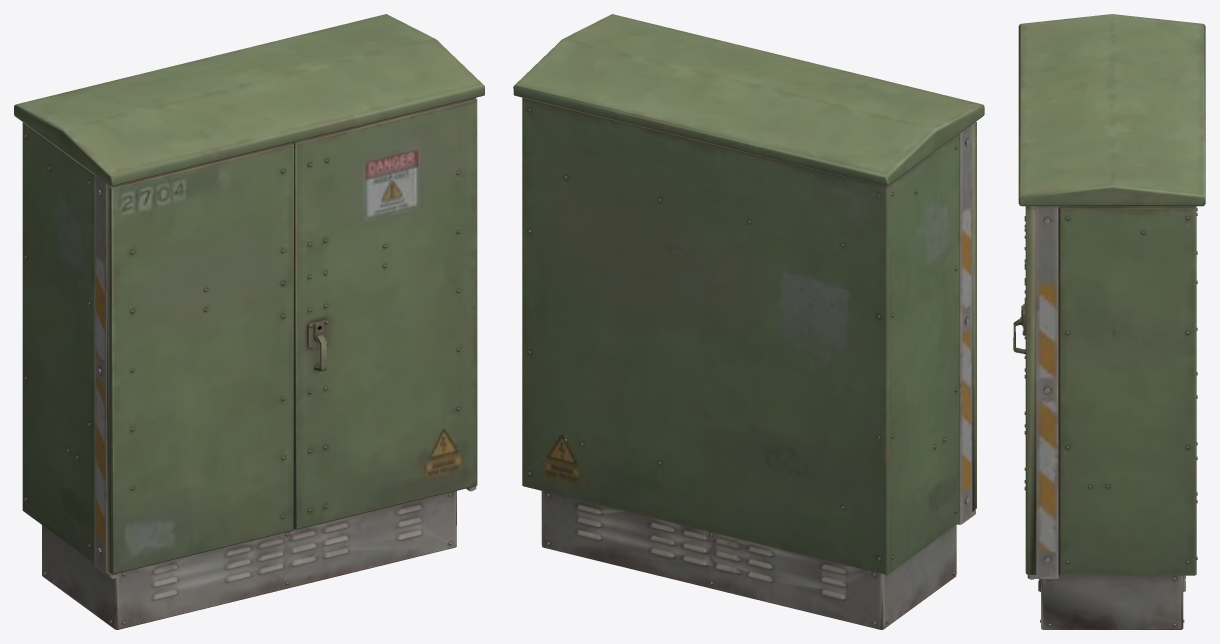
The model's file is utility_box_02.glb.
3 views of the same model, side by side, from view 1: azimuth 30°, elevation 25°; view 2: azimuth 150°, elevation 25°; view 3: azimuth 270°, elevation 25° (orthographic). The views are drawn at different scales.
Parts seen in each view (by area): view 1: utility_box_02; view 2: utility_box_02; view 3: utility_box_02.
Part boxes in pixels (x1,y1,x2,y2): utility_box_02: [14, 14, 484, 629]; utility_box_02: [513, 14, 984, 629]; utility_box_02: [1013, 14, 1205, 629].
Size of the model in its own units: 0.92 by 1.12 by 0.4319.
1 material, 1 textured.
